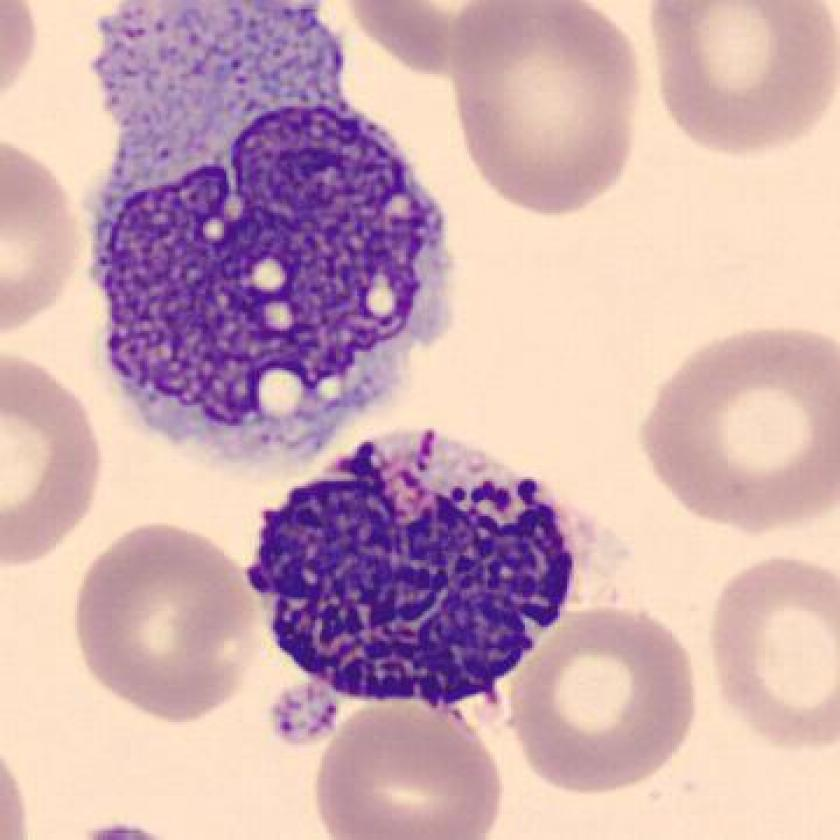basophil: (97, 89, 465, 457), (253, 427, 587, 711)
